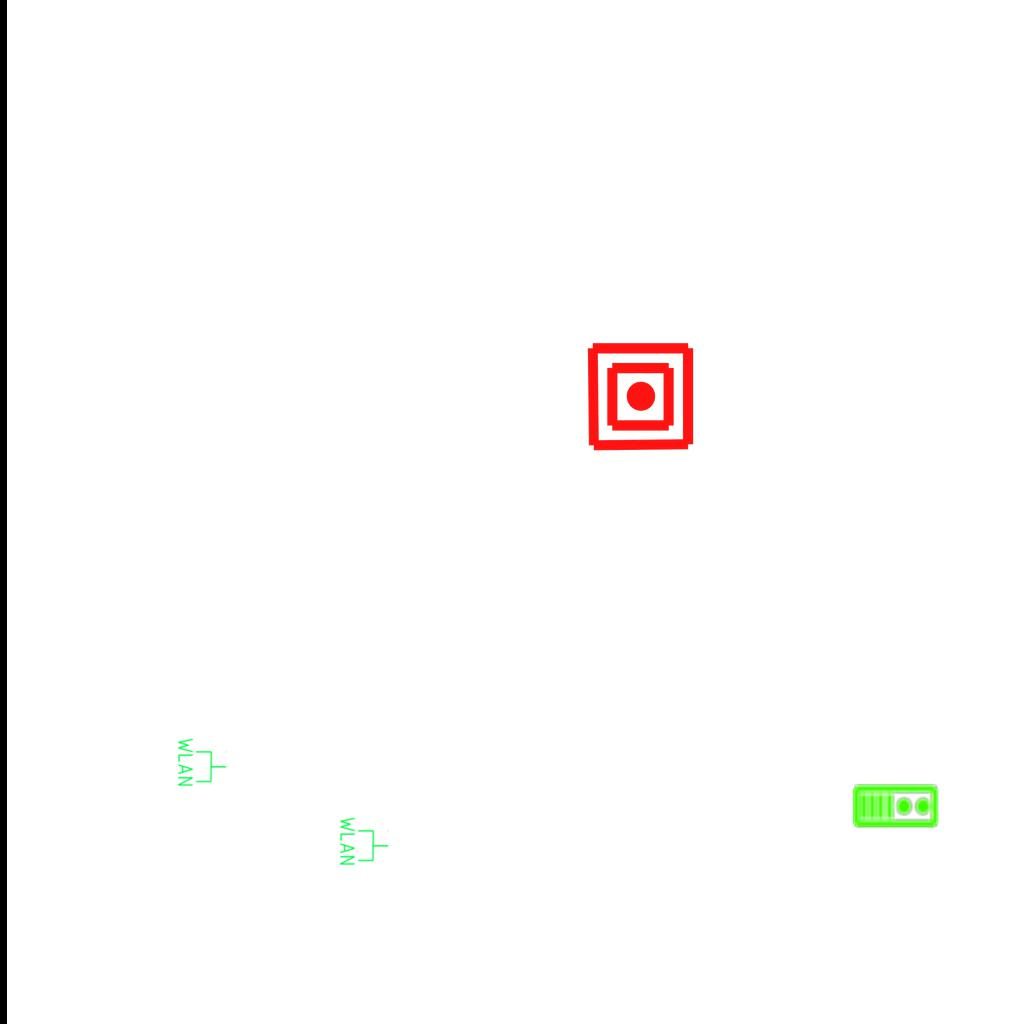Gegensprechanlage_mit_Video: (852, 782, 940, 829)
NAM-Nichtautomatischer_Melder: (584, 340, 697, 453)
WLAN: (338, 815, 390, 867), (176, 736, 228, 788)
